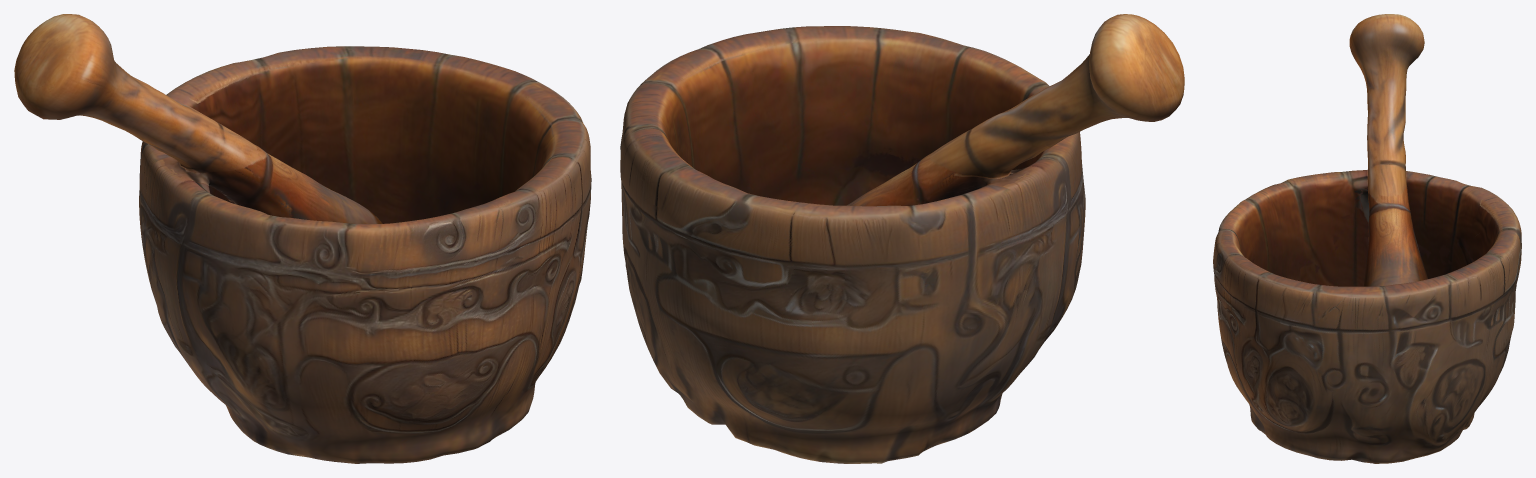
The model's file is baba.glb.
3 views of the same model, side by side, from view 1: azimuth 30°, elevation 25°; view 2: azimuth 150°, elevation 25°; view 3: azimuth 270°, elevation 25° (orthographic). The views are drawn at different scales.
Bounding box in the file's own units: 2 × 1.63 × 1.46.
Materials: 1 (1 with a texture image).
